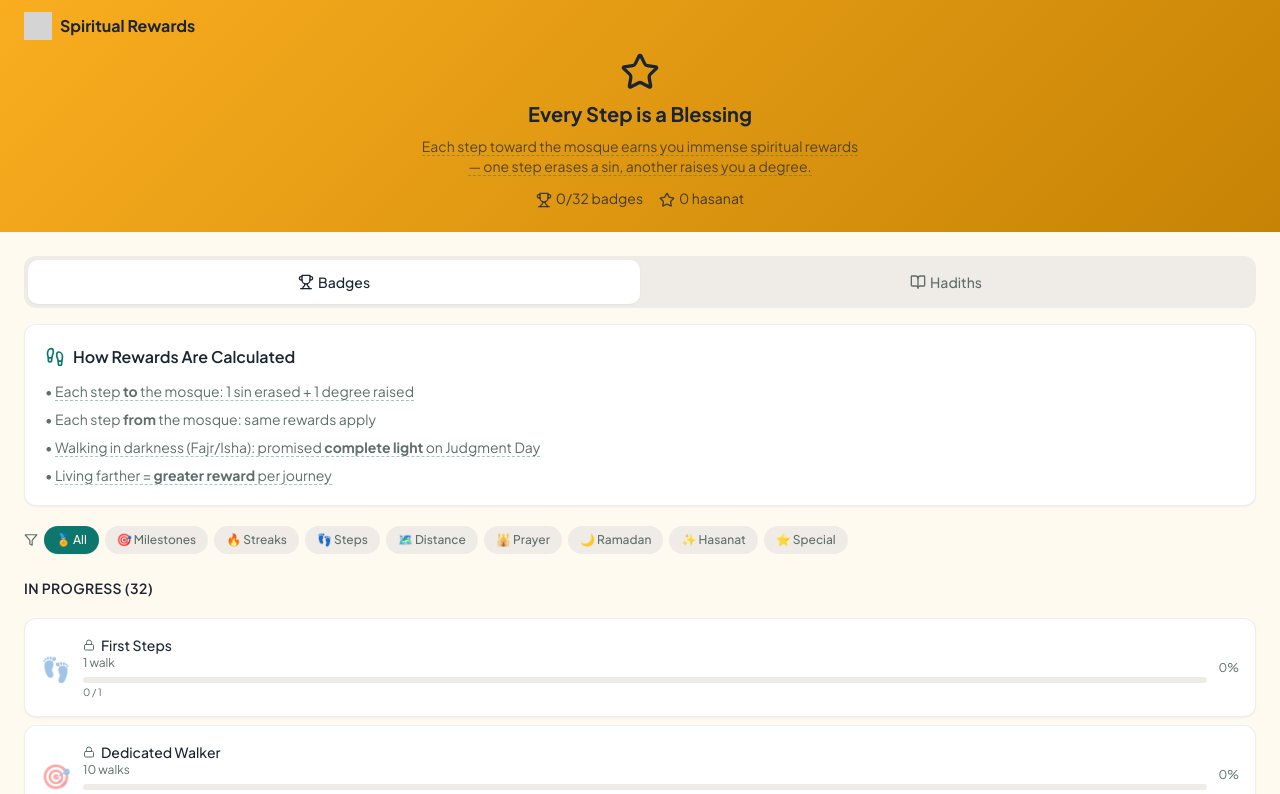
Test: Rewards page › switching to Hadiths tab shows hadith content
Click the tab "Hadiths".
click(946, 282)  # box [640,260,1252,304]
(page scrolled)
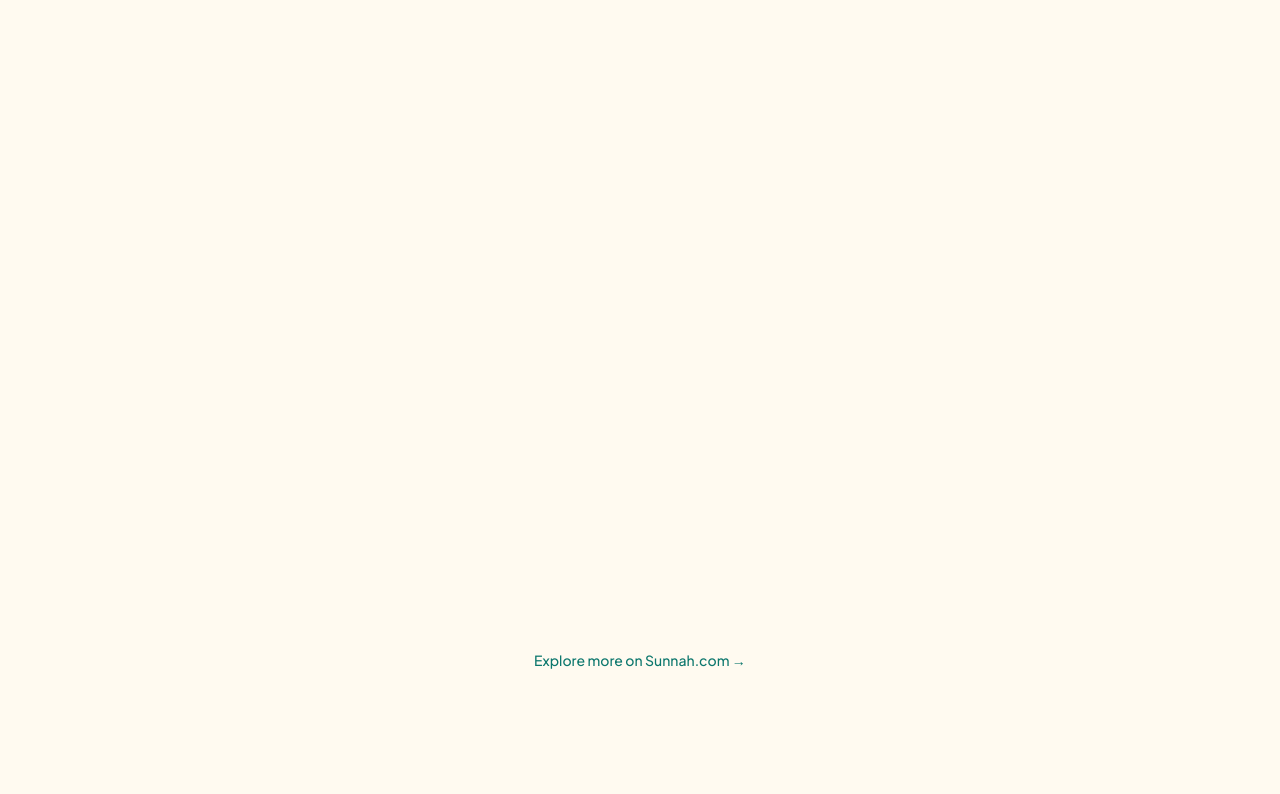
Expected: the link "Explore more on Sunnah.com →" is shown, [534,651,746,669]
